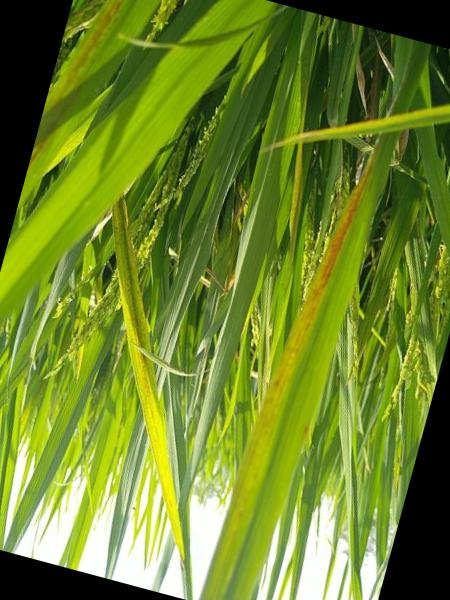Leaf Streak: (209, 157, 372, 600), (111, 194, 185, 567), (41, 0, 125, 116), (26, 122, 54, 175)
